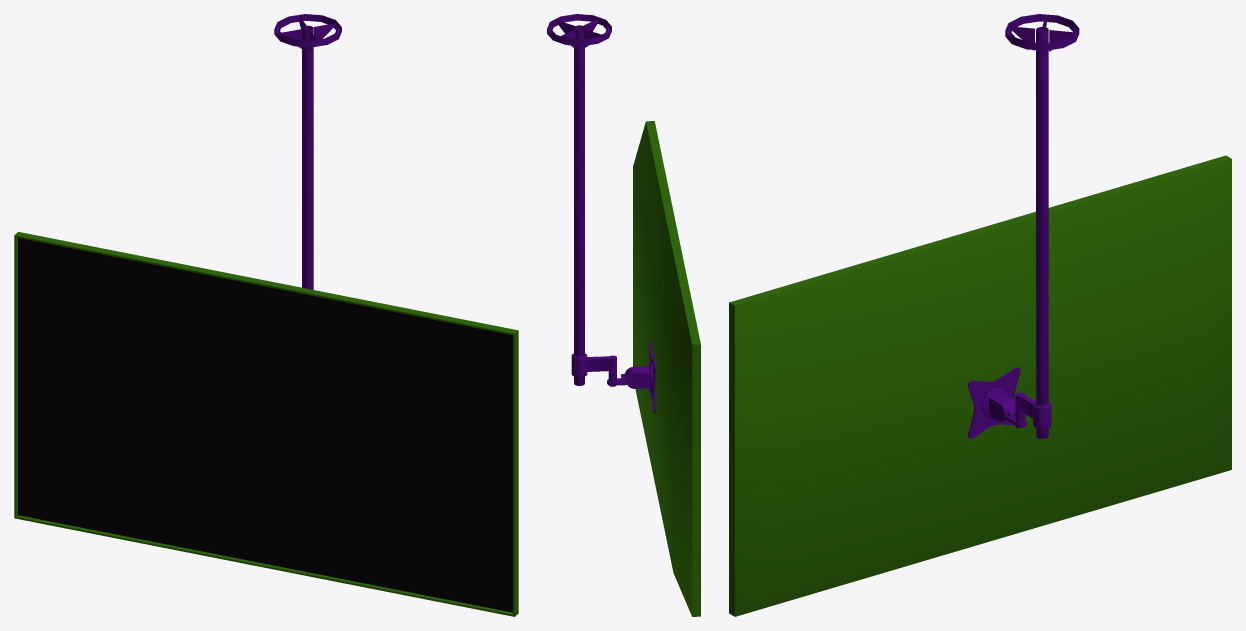
The picture shows the model from 3 angles, left to right: view 1: azimuth 30°, elevation 25°; view 2: azimuth 150°, elevation 25°; view 3: azimuth 270°, elevation 25°; orthographic projection. The views are drawn at different scales.
Visible parts, largest first — view 1: Object079; view 2: Object079; view 3: Object079.
Part boxes in pixels (x1,y1,x2,y2): Object079: (14, 14, 518, 616); Object079: (547, 14, 700, 616); Object079: (729, 14, 1231, 616).
Size of the model in its own units: 0.6779 by 1.15 by 0.9567.
